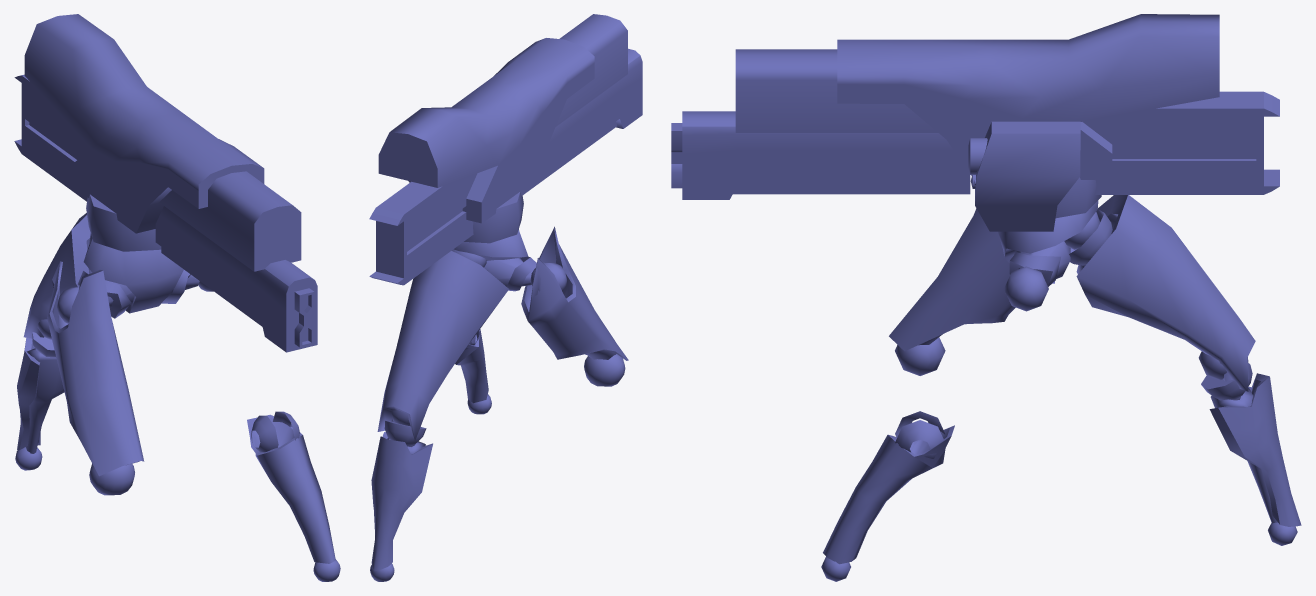
Rendered from sniper_chunks.fbx.
The picture shows the model from 3 angles, left to right: view 1: azimuth 30°, elevation 25°; view 2: azimuth 150°, elevation 25°; view 3: azimuth 270°, elevation 25°; orthographic projection. The views are drawn at different scales.
Parts seen in each view (by area): view 1: topOfGun_geo, thigh_R_geo, gunBarrel_geo, middleOfGun_geo, shin_L_geo, pelvis_geo, gunButt_geo, backShin_geo, backThigh_geo, coupling_geo; view 2: topOfGun_geo, backThigh_geo, gunButt_geo, thigh_R_geo, backShin_geo, gunBarrel_geo, middleOfGun_geo, pelvis_geo, shin_L_geo, coupling_geo; view 3: topOfGun_geo, gunBarrel_geo, backThigh_geo, gunButt_geo, middleOfGun_geo, eye_geo, thigh_R_geo, shin_L_geo, backShin_geo, pelvis_geo, coupling_geo.
Part boxes in pixels (x1,y1,x2,y2): topOfGun_geo: (24,14,264,233); thigh_R_geo: (47,261,144,495); gunBarrel_geo: (155,206,317,352); middleOfGun_geo: (159,171,301,271); shin_L_geo: (247,411,340,581); pelvis_geo: (57,233,213,323); gunButt_geo: (14,74,91,201); backShin_geo: (15,332,64,470); backThigh_geo: (23,213,92,339); coupling_geo: (86,194,161,251); topOfGun_geo: (378,38,594,223); backThigh_geo: (377,251,508,440); gunButt_geo: (369,173,477,285); thigh_R_geo: (521,226,628,386); backShin_geo: (370,420,432,581); gunBarrel_geo: (523,48,642,194); middleOfGun_geo: (555,14,627,126); pelvis_geo: (451,229,566,291); shin_L_geo: (455,329,491,414); coupling_geo: (464,191,523,243); topOfGun_geo: (837,14,1219,179); gunBarrel_geo: (671,111,970,199); backThigh_geo: (1069,195,1255,391); gunButt_geo: (1082,91,1279,194); middleOfGun_geo: (735,49,937,132); eye_geo: (968,121,1080,231); thigh_R_geo: (889,208,1015,375); shin_L_geo: (821,411,954,581); backShin_geo: (1201,363,1301,545); pelvis_geo: (998,200,1099,311); coupling_geo: (1055,177,1101,218).
Size of the model in its own units: 3.49 by 7.55 by 8.25.
